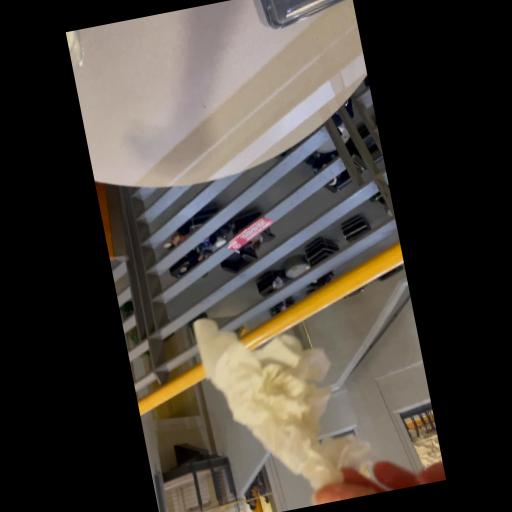napkin: (165, 266, 414, 512)
